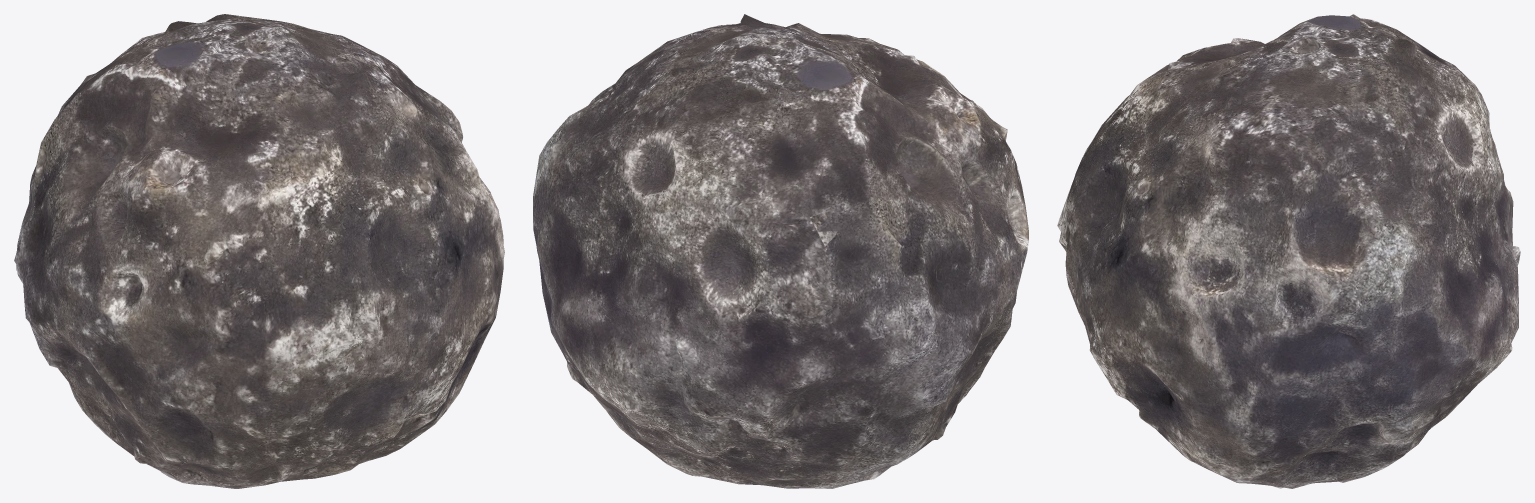
The model's file is Asteroid1.glb.
3 renders of one model, left to right at view 1: azimuth 30°, elevation 25°; view 2: azimuth 150°, elevation 25°; view 3: azimuth 270°, elevation 25°, orthographic. The views are drawn at different scales.
Visible parts, largest first — view 1: mesh_node; view 2: mesh_node; view 3: mesh_node.
Boxes of the visible parts, box(x1,y1,x2,y2) form: mesh_node: box(14, 14, 504, 488); mesh_node: box(533, 14, 1028, 488); mesh_node: box(1057, 14, 1520, 488).
Size of the model in its own units: 1 by 0.957 by 0.9746.
1 material, 1 textured.
